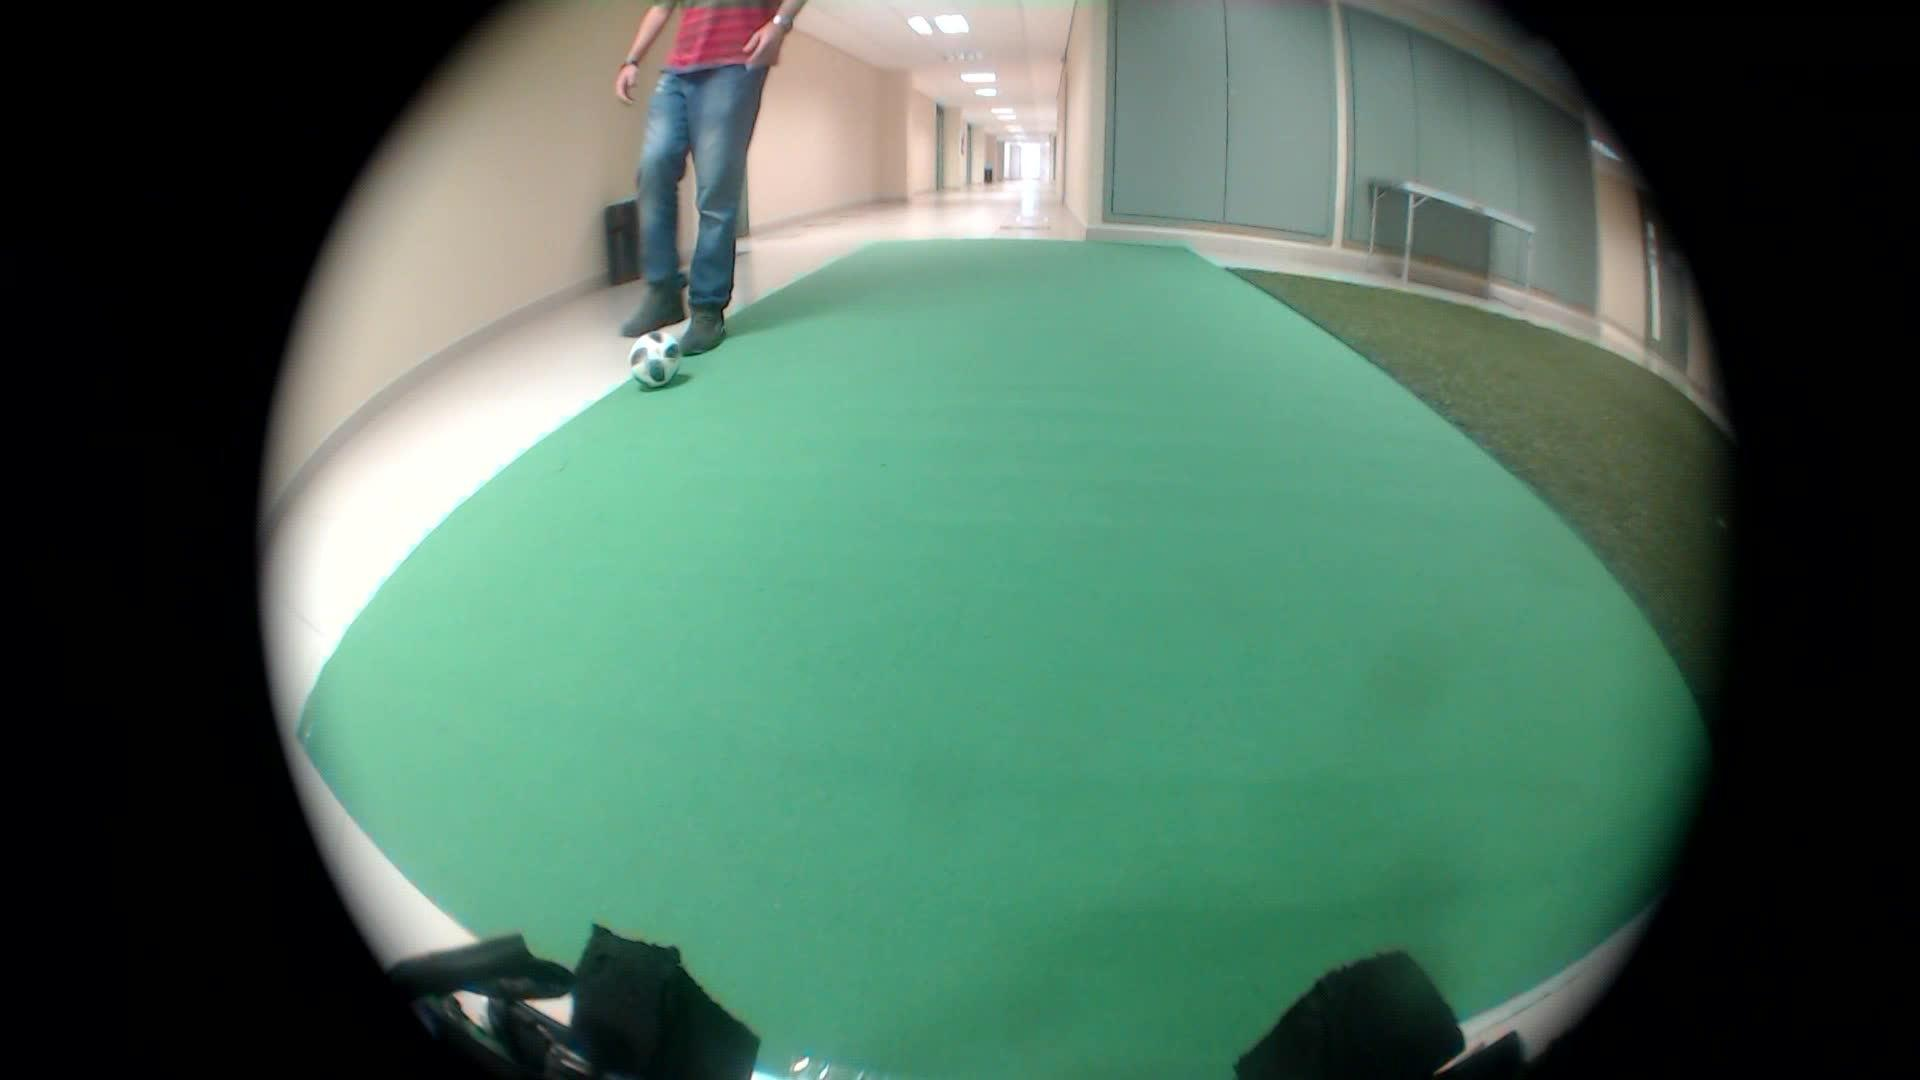ball: (626, 330, 691, 390)
